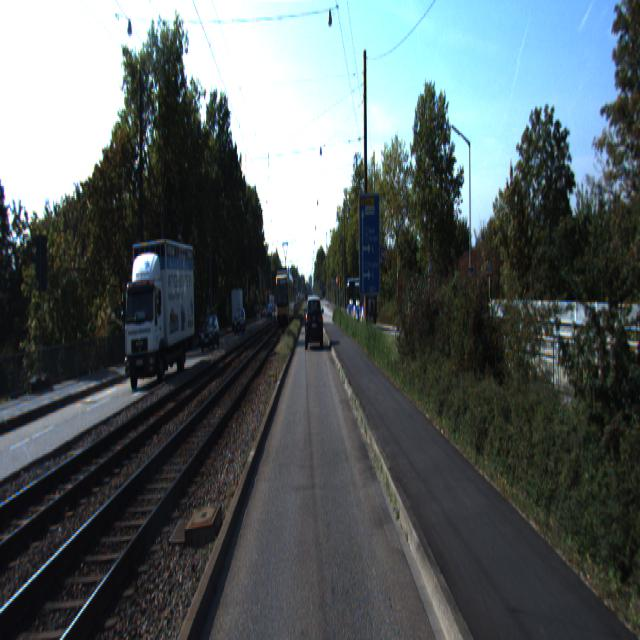Car: (121, 230, 196, 390), (346, 276, 378, 330), (306, 294, 323, 348), (200, 314, 220, 353)
